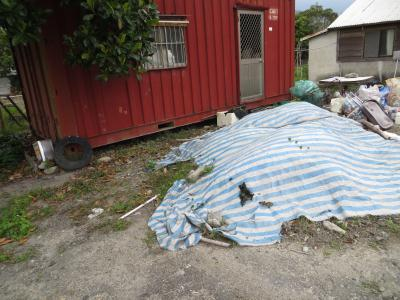plastic_bag: (159, 102, 400, 244), (289, 79, 327, 103)
styrofoam: (217, 110, 240, 126)
tire: (54, 135, 92, 171)
